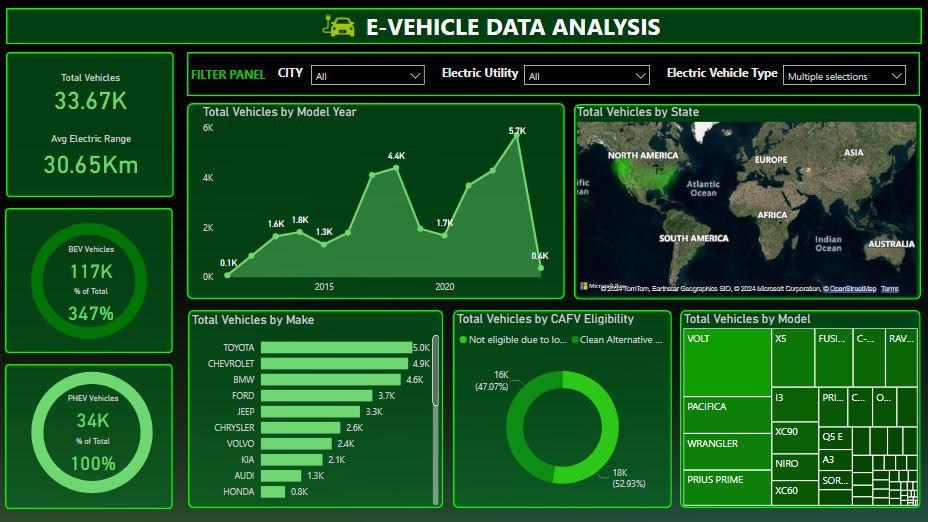

This screenshot's page, from the dashboard's own definition file:
{"tool":"powerbi","page":{"name":"Page 1","canvas":[1280,720],"ordinal":0},"visuals":[{"type":"shape","box":[9.1,12.1,1260.6,50],"z":0},{"type":"shape","box":[9.1,72.7,231,200],"z":1000},{"type":"card","title":"Total Vehicles","fields":{"Values":["Electric_Vehicle_Population_Data.Total Vehicles"]},"box":[24.8,100.5,202.3,56.4],"z":2000},{"type":"card","title":"Avg Electric Range","fields":{"Values":["Electric_Vehicle_Population_Data.Avg Range"]},"box":[26.2,184.4,200.9,66.1],"z":3000},{"type":"shape","box":[8.5,287.7,231,199.8],"z":4000},{"type":"shape","box":[8.5,501.7,231,199.8],"z":5000},{"type":"donutChart","fields":{"Category":["Electric_Vehicle_Population_Data.Electric Vehicle Type"],"Y":["Electric_Vehicle_Population_Data.Total Vehicles"]},"box":[8.3,283.5,231.2,209.2],"z":6000},{"type":"card","title":"BEV Vehicles","fields":{"Values":["Electric_Vehicle_Population_Data.BEV Vehicles"]},"box":[58.2,338.5,137.5,58.1],"z":7000},{"type":"card","title":"% of Total","fields":{"Values":["Electric_Vehicle_Population_Data.% of BEV"]},"box":[58.2,396.6,137.5,58.1],"z":8000},{"type":"donutChart","fields":{"Category":["Electric_Vehicle_Population_Data.Electric Vehicle Type"],"Y":["Electric_Vehicle_Population_Data.Total Vehicles"]},"box":[9.6,487.2,236.7,218.8],"z":9000},{"type":"card","title":"PHEV Vehicles","fields":{"Values":["Electric_Vehicle_Population_Data.PHEV Vehicles"]},"box":[60.9,544.3,137.5,58.1],"z":10000},{"type":"card","title":"% of Total","fields":{"Values":["Electric_Vehicle_Population_Data.% of PHEV"]},"box":[60.9,602.4,137.5,58.1],"z":11000},{"type":"shape","box":[259.4,72.3,1009.1,60.9],"z":12000},{"type":"shape","box":[259.4,143.1,520,270],"z":13000},{"type":"areaChart","fields":{"Category":["Electric_Vehicle_Population_Data.Model Year"],"Y":["Electric_Vehicle_Population_Data.Total Vehicles"]},"box":[275.3,144.5,488.6,269.8],"z":14000},{"type":"shape","box":[790.9,144.6,477.6,269.3],"z":15000},{"type":"shape","box":[260,428.6,351.4,272.9],"z":16000},{"type":"barChart","fields":{"Category":["Electric_Vehicle_Population_Data.Make"],"Y":["Electric_Vehicle_Population_Data.Total Vehicles"]},"box":[260.5,430.3,350,271.1],"z":17000},{"type":"shape","box":[624.3,428.6,301.4,272.9],"z":18000},{"type":"donutChart","title":"Total Vehicles by CAFV Eligibility","fields":{"Category":["Electric_Vehicle_Population_Data.Clean Alternative Fuel Vehicle (CAFV) Eligibility"],"Y":["Electric_Vehicle_Population_Data.Total Vehicles"]},"box":[624.9,429.4,301.4,272.5],"z":19000},{"type":"textbox","box":[258.8,88.1,130.8,37.2],"z":20000},{"type":"slicer","fields":{"Values":["Electric_Vehicle_Population_Data.City"]},"box":[419.5,80.8,175.7,48.2],"z":21000},{"type":"textbox","box":[378.4,85,56.7,39.7],"z":22000},{"type":"slicer","fields":{"Values":["Electric_Vehicle_Population_Data.Electric Utility"]},"box":[712.7,80.8,192.8,48.2],"z":23000},{"type":"textbox","box":[603.5,85,133.2,39.7],"z":24000},{"type":"slicer","fields":{"Values":["Electric_Vehicle_Population_Data.Electric Vehicle Type"]},"box":[1070.1,80.8,188.5,48.2],"z":25000},{"type":"textbox","box":[914.2,85,178.6,39.7],"z":26000},{"type":"map","fields":{"Category":["Electric_Vehicle_Population_Data.State"],"Size":["Electric_Vehicle_Population_Data.Total Vehicles"]},"box":[790,144.5,477.6,269.8],"z":27000},{"type":"image","box":[426.1,2.8,86.5,73.7],"z":28000},{"type":"shape","box":[937.1,428.6,331.4,272.9],"z":29000},{"type":"textbox","box":[499.6,9.6,423.9,60.6],"z":30000},{"type":"treemap","fields":{"Group":["Electric_Vehicle_Population_Data.Model"],"Values":["Electric_Vehicle_Population_Data.Total Vehicles"]},"box":[937.3,429.4,331.7,272.5],"z":31000}]}

Visuals, with their boxes in screenshot pixels (x1, y1, x2, y2), scaled from the page's 1280x720 canvas onto the 928x522 screenshot:
shape: region(7, 9, 921, 45)
shape: region(7, 53, 174, 198)
"Total Vehicles" card: region(18, 73, 165, 114)
"Avg Electric Range" card: region(19, 134, 165, 182)
shape: region(6, 209, 174, 353)
shape: region(6, 364, 174, 509)
donutChart - Electric_Vehicle_Population_Data.Electric Vehicle Type x Electric_Vehicle_Population_Data.Total Vehicles: region(6, 206, 174, 357)
"BEV Vehicles" card: region(42, 245, 142, 288)
"% of Total" card: region(42, 288, 142, 330)
donutChart - Electric_Vehicle_Population_Data.Electric Vehicle Type x Electric_Vehicle_Population_Data.Total Vehicles: region(7, 353, 179, 512)
"PHEV Vehicles" card: region(44, 395, 144, 437)
"% of Total" card: region(44, 437, 144, 479)
shape: region(188, 52, 920, 97)
shape: region(188, 104, 565, 299)
areaChart - Electric_Vehicle_Population_Data.Model Year x Electric_Vehicle_Population_Data.Total Vehicles: region(200, 105, 554, 300)
shape: region(573, 105, 920, 300)
shape: region(188, 311, 443, 509)
barChart - Electric_Vehicle_Population_Data.Make x Electric_Vehicle_Population_Data.Total Vehicles: region(189, 312, 443, 509)
shape: region(453, 311, 671, 509)
"Total Vehicles by CAFV Eligibility" donutChart: region(453, 311, 672, 509)
textbox: region(188, 64, 282, 91)
slicer - Electric_Vehicle_Population_Data.City: region(304, 59, 432, 94)
textbox: region(274, 62, 315, 90)
slicer - Electric_Vehicle_Population_Data.Electric Utility: region(517, 59, 656, 94)
textbox: region(438, 62, 534, 90)
slicer - Electric_Vehicle_Population_Data.Electric Vehicle Type: region(776, 59, 912, 94)
textbox: region(663, 62, 792, 90)
map - Electric_Vehicle_Population_Data.State x Electric_Vehicle_Population_Data.Total Vehicles: region(573, 105, 919, 300)
image: region(309, 2, 372, 55)
shape: region(679, 311, 920, 509)
textbox: region(362, 7, 670, 51)
treemap - Electric_Vehicle_Population_Data.Model x Electric_Vehicle_Population_Data.Total Vehicles: region(680, 311, 920, 509)
